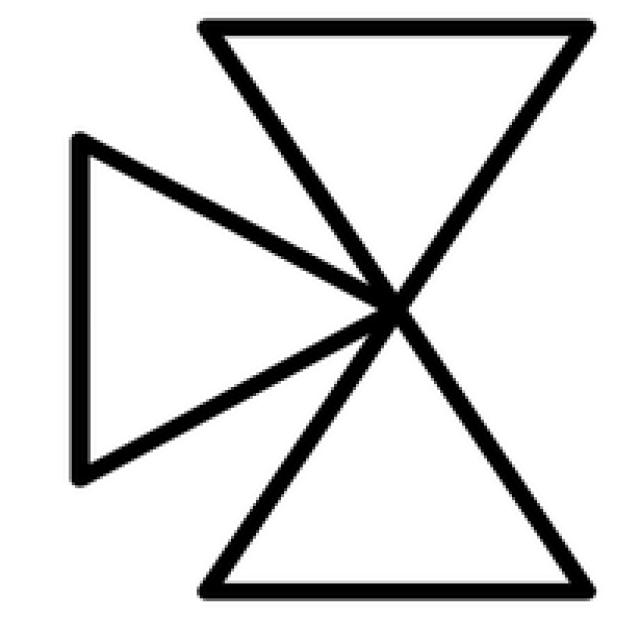3-way Valve: (201, 26, 586, 587), (80, 136, 391, 480)
